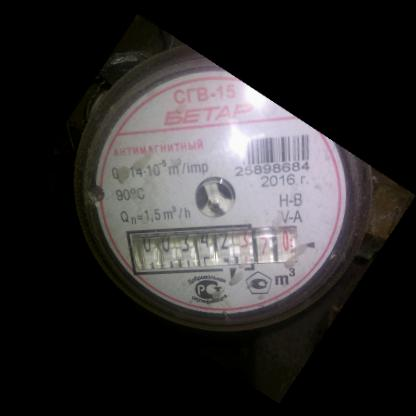digital_screen: (121, 220, 237, 275)
